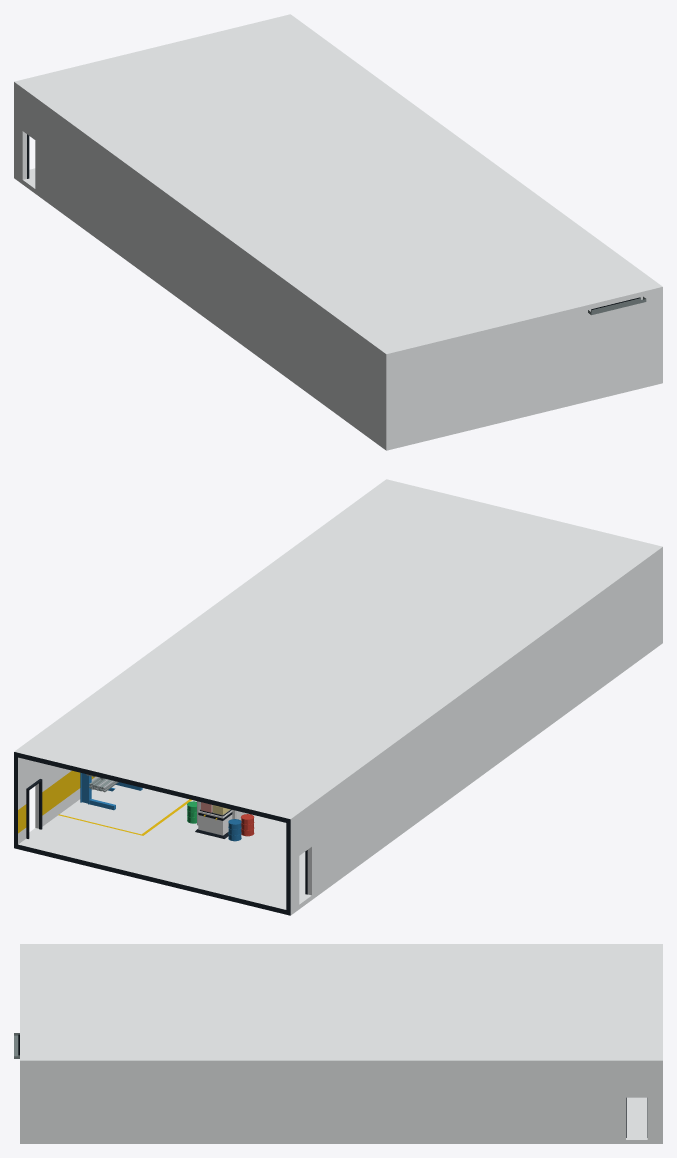
File: Room_Raw_Material_Storage_003.fbx
The picture shows the model from 3 angles, top to bottom: view 1: azimuth 30°, elevation 25°; view 2: azimuth 150°, elevation 25°; view 3: azimuth 270°, elevation 25°; orthographic projection. The views are drawn at different scales.
Parts seen in each view (by area): view 1: Room_Raw_Material_Storage_003.001; view 2: Room_Raw_Material_Storage_003.001; view 3: Room_Raw_Material_Storage_003.001.
Boxes of the visible parts, x1,y1,x2,y2 form: Room_Raw_Material_Storage_003.001: (14, 14, 662, 450); Room_Raw_Material_Storage_003.001: (14, 479, 662, 915); Room_Raw_Material_Storage_003.001: (14, 944, 662, 1143).
Size of the model in its own units: 1200 by 400 by 2824.
